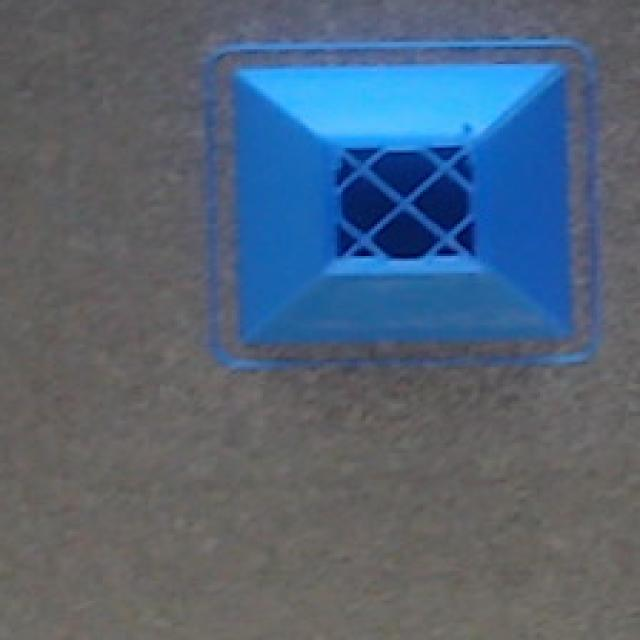mistake: (223, 74, 585, 349)
